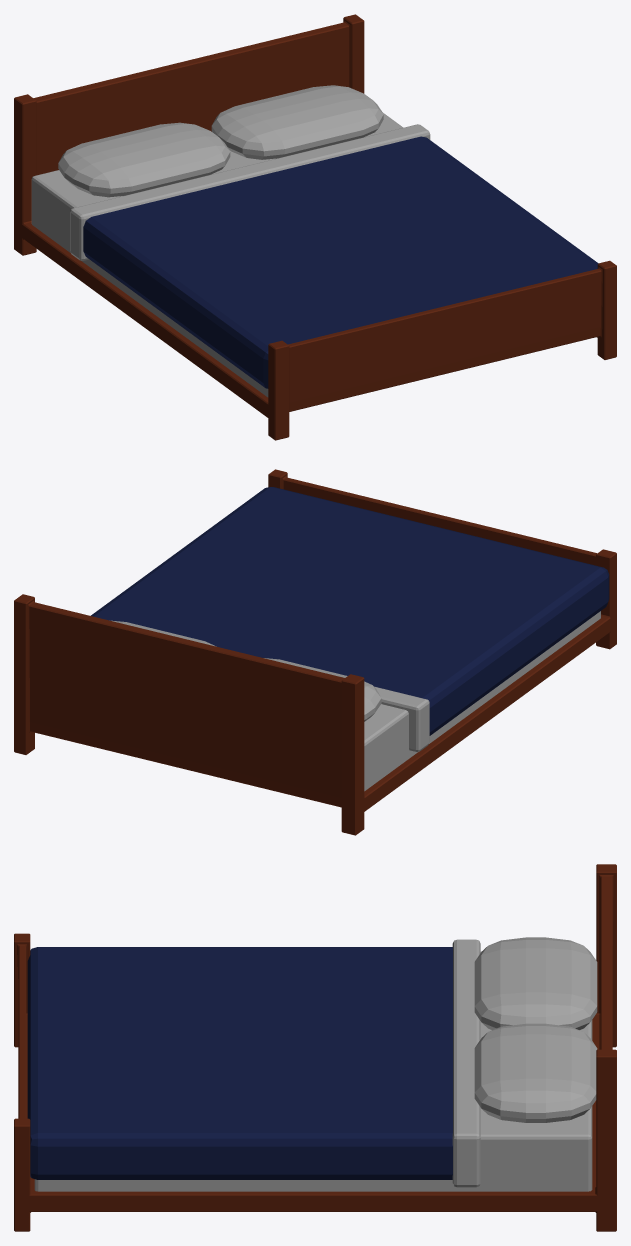
Rendered from hh_bed_double.glb.
The picture shows the model from 3 angles, top to bottom: view 1: azimuth 30°, elevation 25°; view 2: azimuth 150°, elevation 25°; view 3: azimuth 270°, elevation 25°; orthographic projection. The views are drawn at different scales.
Parts seen in each view (by area): view 1: Bed_double; view 2: Bed_double; view 3: Bed_double.
Part boxes in pixels (<box>): Bed_double: <box>14,14,616,440</box>; Bed_double: <box>14,469,616,835</box>; Bed_double: <box>14,864,616,1231</box>.
Size of the model in its own units: 1.72 by 0.7138 by 2.22.
